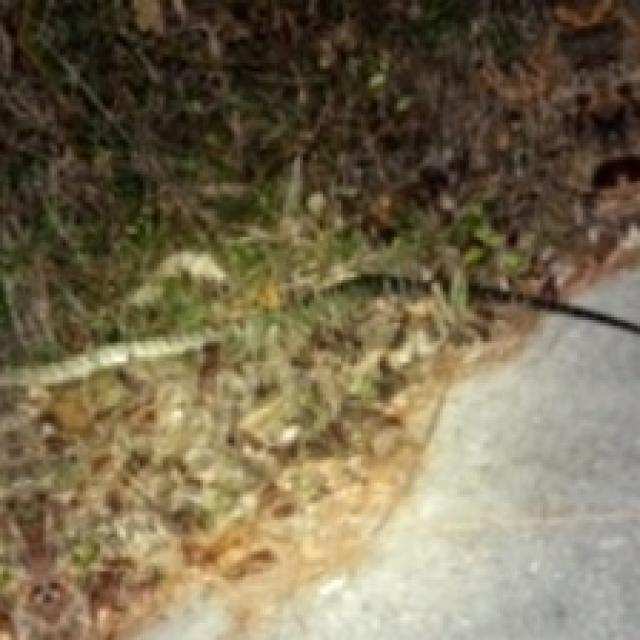king cobra: (1, 332, 220, 388), (475, 292, 640, 334), (291, 274, 412, 303), (430, 280, 450, 308)
